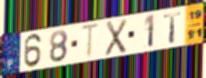1: (144, 13, 156, 50)
6: (23, 33, 42, 69)
8: (49, 29, 69, 64)
T: (79, 22, 101, 61), (163, 11, 184, 45)
X: (104, 18, 129, 58)
